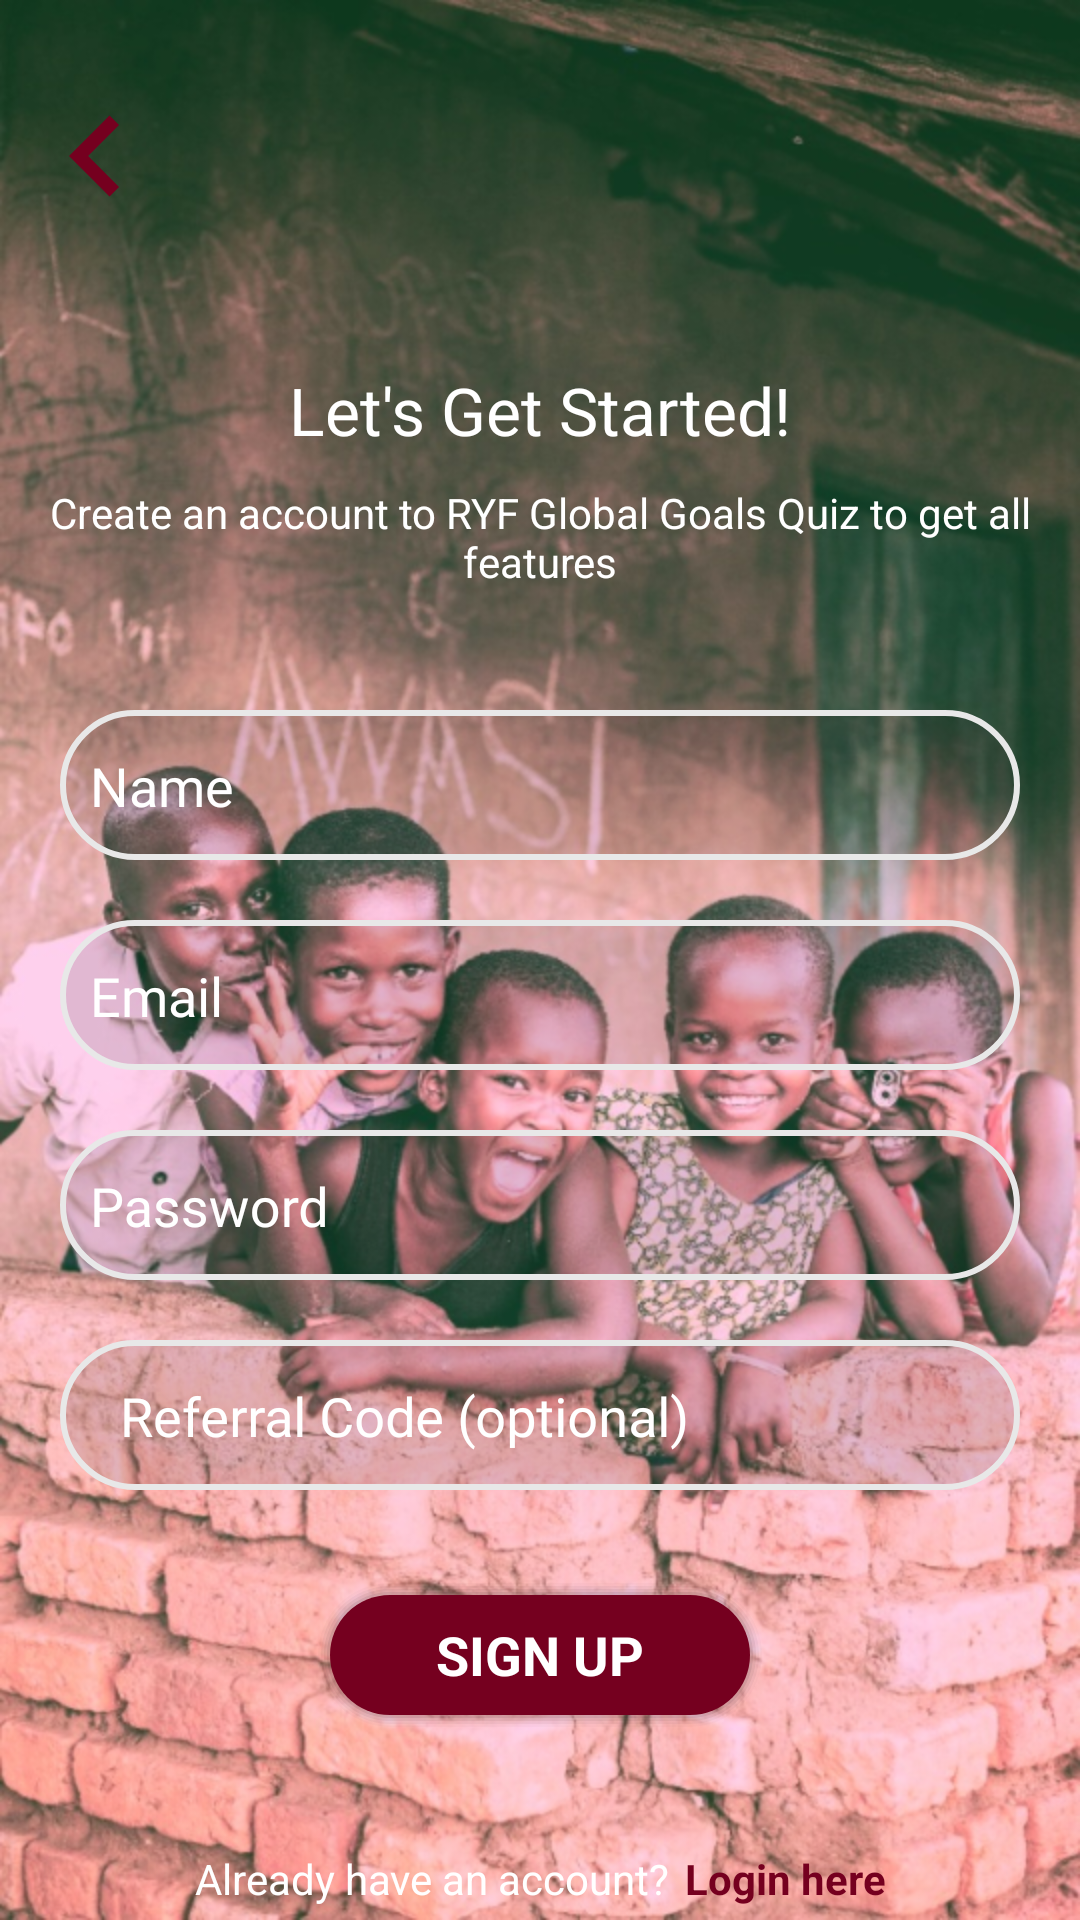

Screen size 1080×1920. Icon name, then its box in pixels as [x1=x1, y1=y1, x2=x2, y2=y2]:
back: [x1=15, y1=115, x2=149, y2=237]
